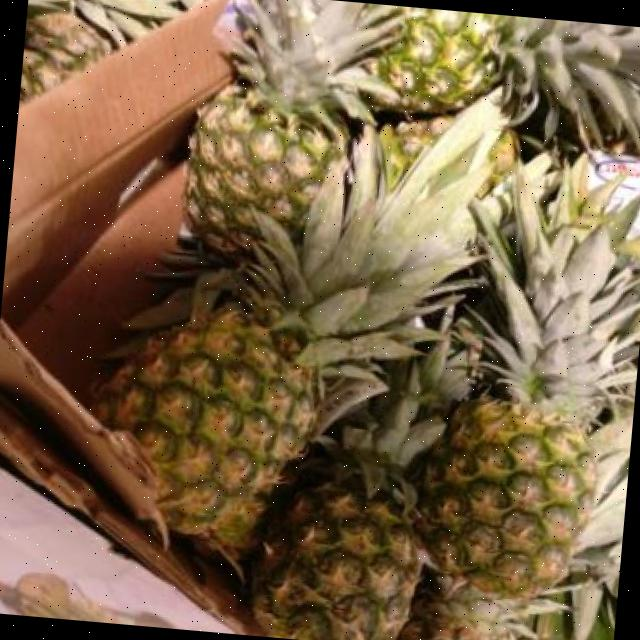pineapple: (94, 90, 502, 549), (414, 159, 640, 597), (250, 317, 470, 640), (187, 0, 401, 240), (352, 6, 640, 155)
